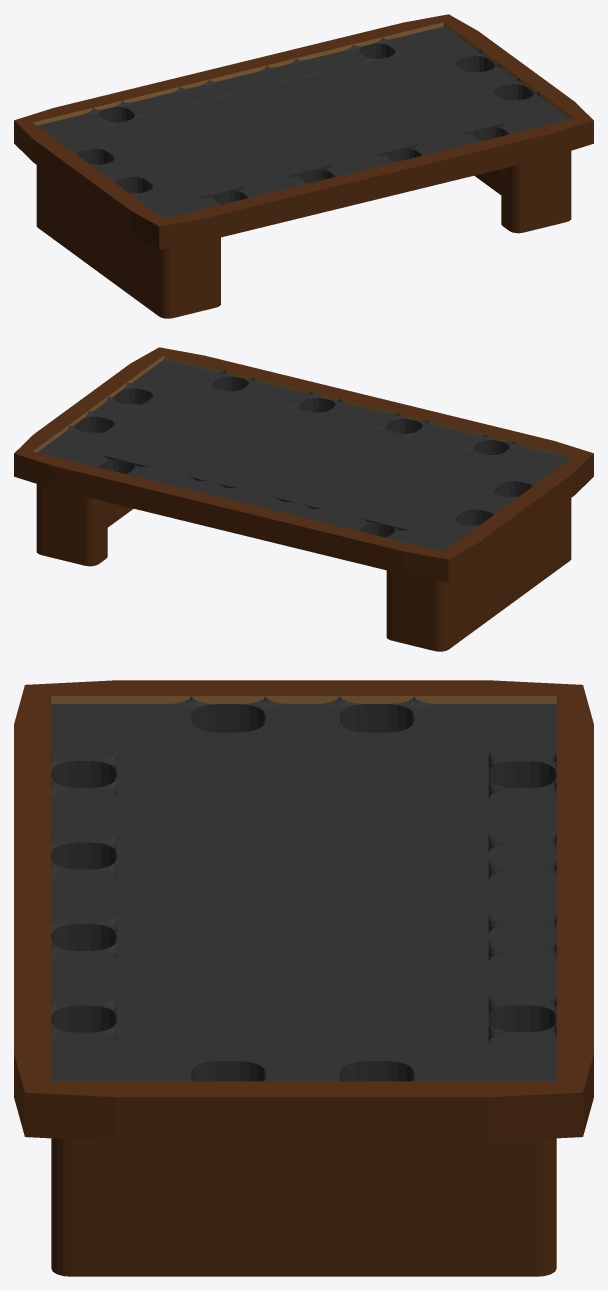
The model's file is PokerBOrd1.fbx.
3 views of the same model, one above another, from view 1: azimuth 30°, elevation 25°; view 2: azimuth 150°, elevation 25°; view 3: azimuth 270°, elevation 25° (orthographic). The views are drawn at different scales.
Visible parts, largest first — view 1: Cube.003; view 2: Cube.003; view 3: Cube.003.
Part boxes in pixels (bbox=[...]): Cube.003: bbox=[14, 14, 593, 318]; Cube.003: bbox=[14, 347, 593, 651]; Cube.003: bbox=[14, 680, 593, 1276].
Size of the model in its own units: 2934 by 641 by 1725.
